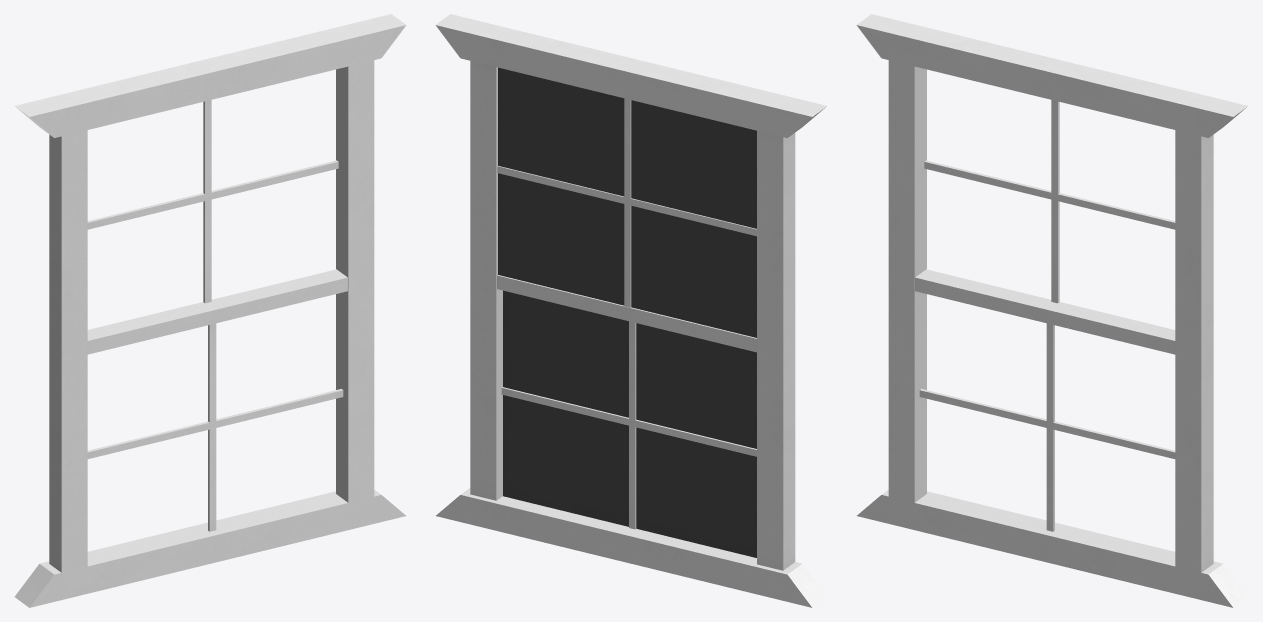
Rendered from Window_2x3.glb.
3 renders of one model, left to right at view 1: azimuth 30°, elevation 25°; view 2: azimuth 150°, elevation 25°; view 3: azimuth 330°, elevation 25°, orthographic.
Parts seen in each view (by area): view 1: Window_2x3; view 2: Window_2x3; view 3: Window_2x3.
Part boxes in pixels (bbox=[...]): Window_2x3: bbox=[14, 14, 406, 607]; Window_2x3: bbox=[435, 14, 827, 607]; Window_2x3: bbox=[856, 14, 1248, 607].
Size of the model in its own units: 0.7348 by 0.9144 by 0.0508.
1 material, 1 textured.
